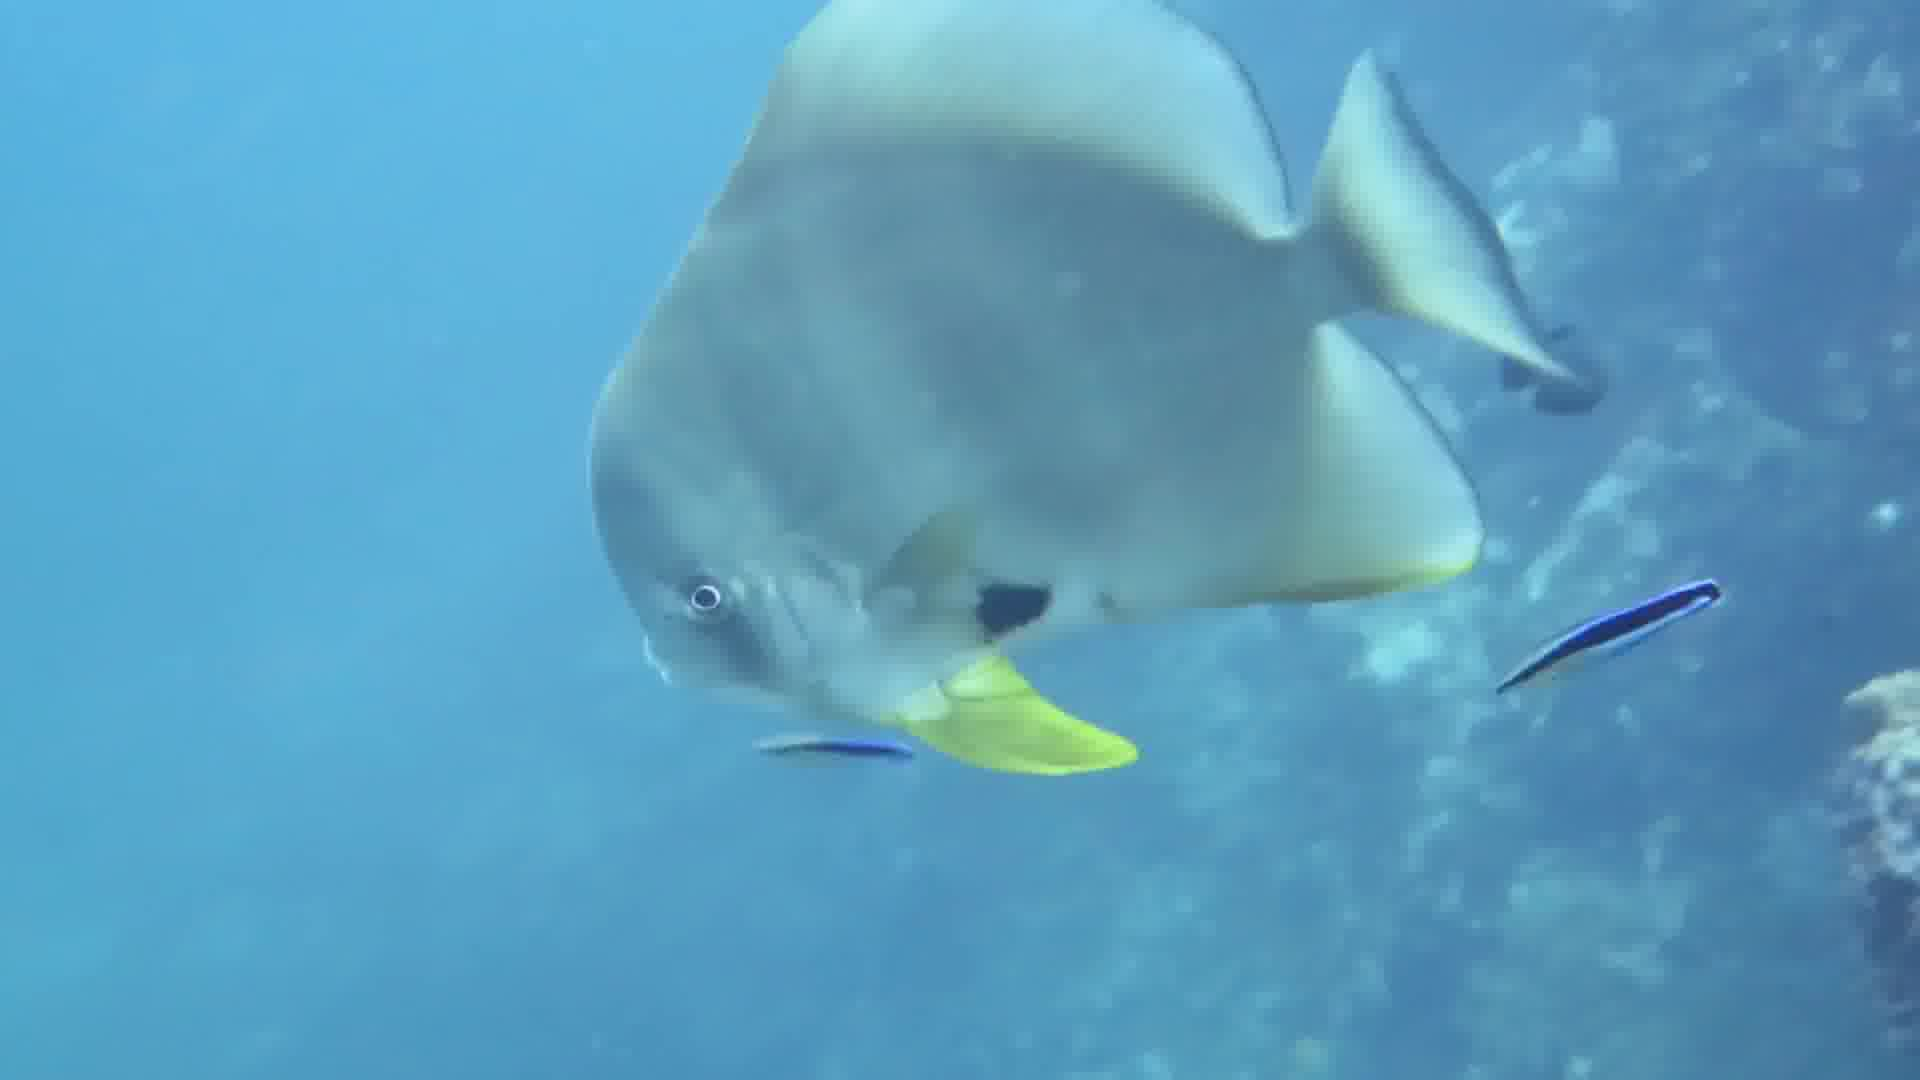Platax teira: (566, 1, 1584, 840)
